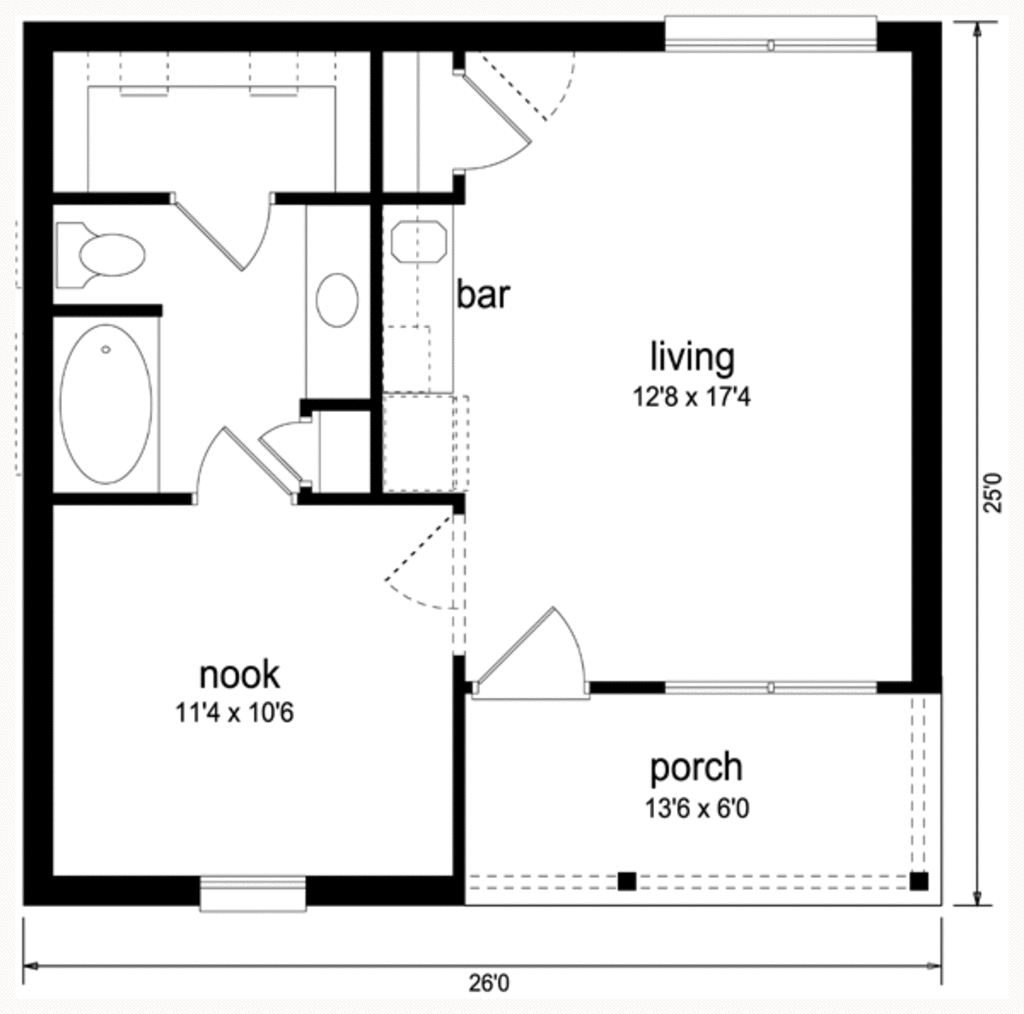door: (476, 606, 587, 698), (459, 64, 531, 168), (195, 425, 294, 498), (181, 195, 273, 273), (258, 411, 323, 486)
large_sink: (56, 211, 150, 298)
tub: (61, 307, 172, 490)
window: (667, 11, 880, 59), (198, 879, 306, 909), (667, 684, 878, 698)
